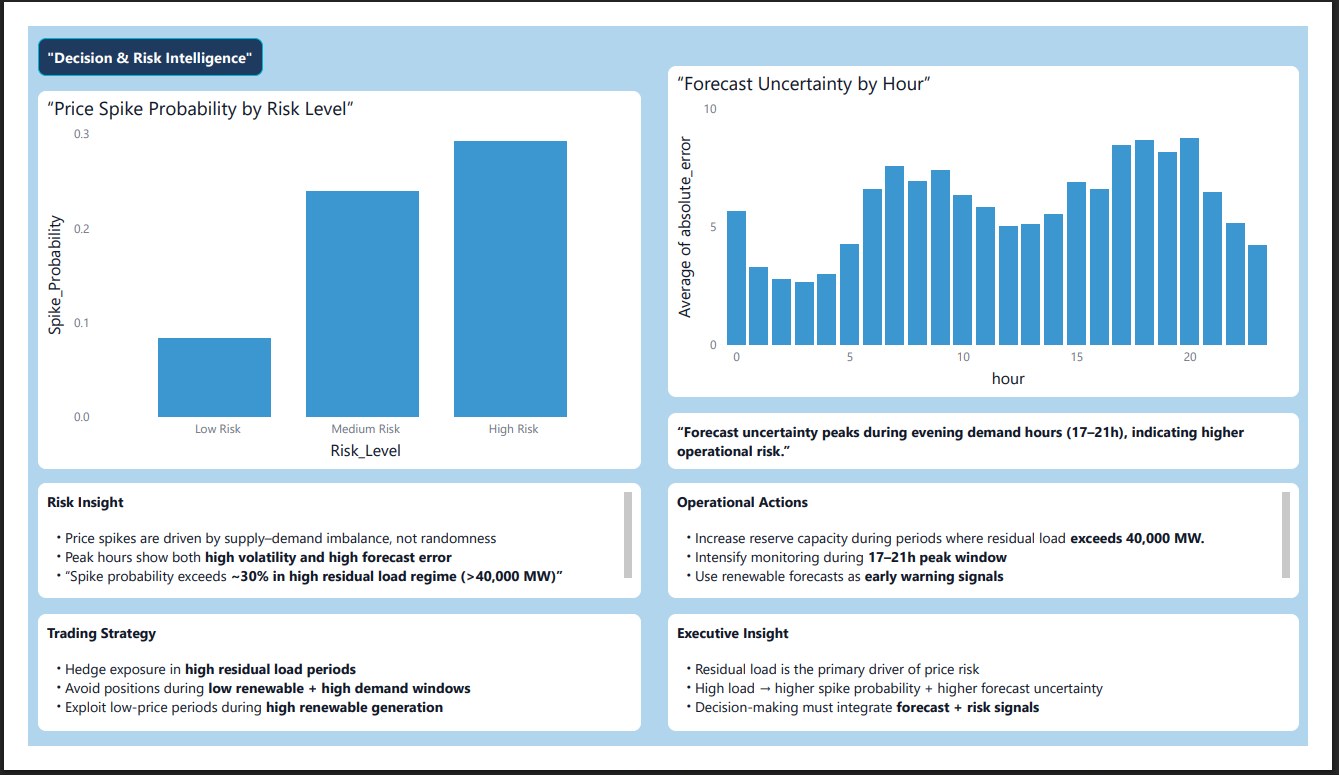

What the dashboard file says about the page in this screenshot:
{"tool":"powerbi","page":{"name":"Decision & Risk Intelligence","canvas":[1280,720],"ordinal":4},"visuals":[{"type":"clusteredColumnChart","title":"“Price Spike Probability by Risk Level”","fields":{"Category":["powerbi_final_dataset.Risk_Level"],"Y":["powerbi_final_dataset.Spike_Probability"]},"box":[10.5,65.1,602.3,377.9],"z":0},{"type":"textbox","box":[639.5,457,631.4,115.1],"z":1000},{"type":"textbox","box":[10.5,588.4,602.3,116.3],"z":2000},{"type":"textbox","box":[10.5,457,602.3,115.1],"z":3000},{"type":"textbox","box":[639.5,588.4,631.4,116.3],"z":4000},{"type":"clusteredColumnChart","title":"“Forecast Uncertainty by Hour”","fields":{"Category":["powerbi_final_dataset.hour"],"Y":["Avg(powerbi_final_dataset.absolute_error)"]},"box":[639.5,39.5,631.4,331.4],"z":5000},{"type":"textbox","box":[639.5,387.2,631.4,55.8],"z":6000},{"type":"textbox","box":[10.5,11.6,224.4,38.4],"z":6001}]}

Visuals, with their boxes in screenshot pixels (x1, y1, x2, y2), scaled from the page's 1280x720 canvas onto the 1339x775 screenshot:
"“Price Spike Probability by Risk Level”" clusteredColumnChart: left=11, top=70, right=641, bottom=477
textbox: left=669, top=492, right=1329, bottom=616
textbox: left=11, top=633, right=641, bottom=759
textbox: left=11, top=492, right=641, bottom=616
textbox: left=669, top=633, right=1329, bottom=759
"“Forecast Uncertainty by Hour”" clusteredColumnChart: left=669, top=43, right=1329, bottom=399
textbox: left=669, top=417, right=1329, bottom=477
textbox: left=11, top=12, right=246, bottom=54
